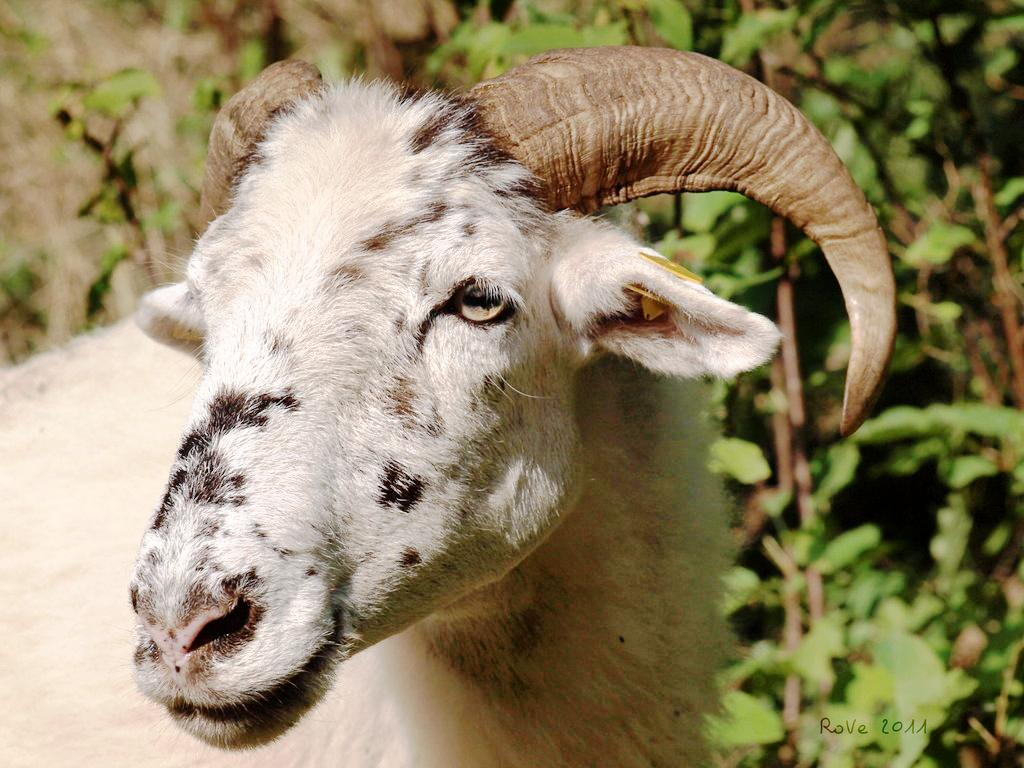Sheep: (0, 44, 896, 766)
